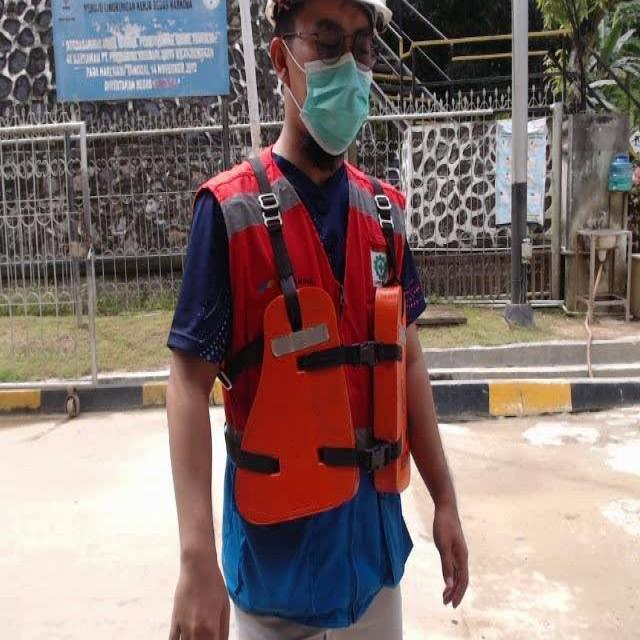vest: (232, 277, 422, 524)
